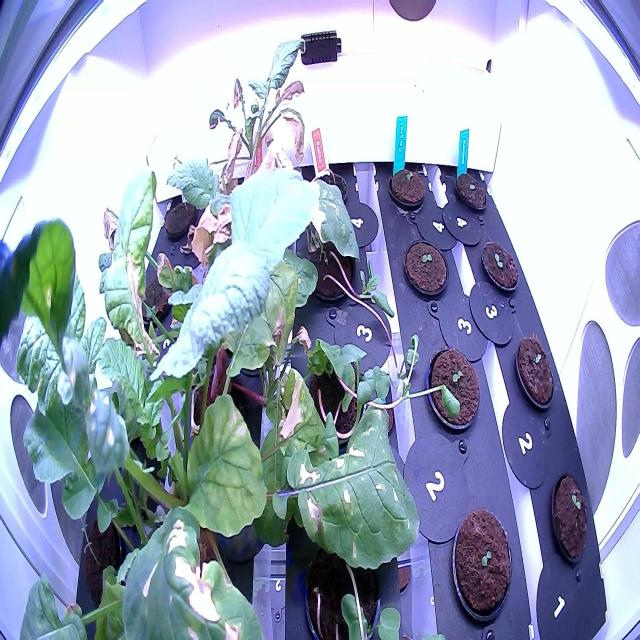germination: (448, 502, 514, 627), (424, 341, 482, 433), (547, 463, 593, 572), (510, 328, 561, 420), (401, 232, 452, 305), (477, 235, 524, 307), (386, 153, 430, 215), (451, 161, 492, 225)
pod: (130, 267, 178, 336), (160, 193, 198, 244)
